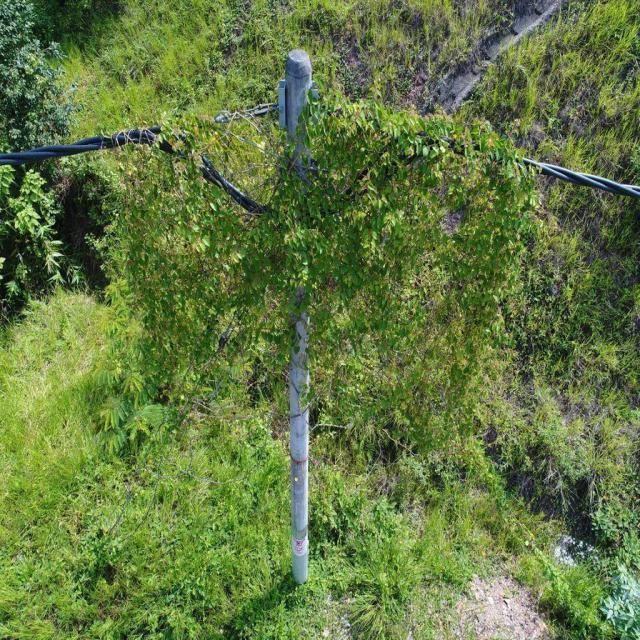critical vegetation: (83, 65, 534, 244)
